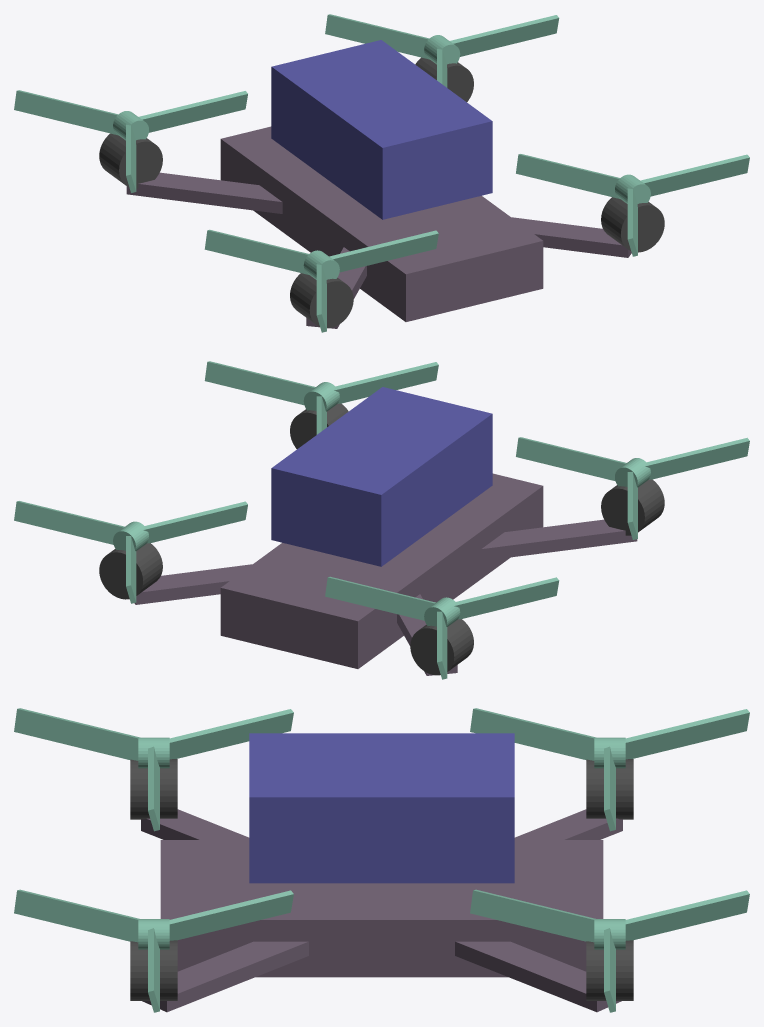
The model's file is CarbiX Zero.glb.
3 renders of one model, top to bottom at view 1: azimuth 30°, elevation 25°; view 2: azimuth 150°, elevation 25°; view 3: azimuth 270°, elevation 25°, orthographic. The views are drawn at different scales.
Parts seen in each view (by area): view 1: battery, frame_body, prop_3, prop_2, prop_0, prop_1, arm_3, arm_0, motor_0, motor_2, motor_3, motor_1 (+1 smaller); view 2: battery, frame_body, prop_3, prop_1, prop_2, prop_0, arm_2, arm_1, motor_1, motor_3, motor_2, motor_0 (+1 smaller); view 3: battery, frame_body, prop_0, prop_1, prop_2, prop_3, arm_1, arm_0, motor_0, motor_1, motor_2, motor_3 (+2 smaller).
Boxes of the visible parts, x1,y1,x2,y2 form: battery: (271,40,492,219); frame_body: (220,126,543,321); prop_3: (14,90,247,192); prop_2: (204,229,438,332); prop_0: (516,154,749,256); prop_1: (325,14,559,87); arm_3: (126,172,282,213); arm_0: (511,217,631,257); motor_0: (601,197,664,252); motor_2: (290,273,353,328); motor_3: (99,133,162,188); motor_1: (415,57,473,101); battery: (271,387,492,566); frame_body: (220,473,543,668); prop_3: (325,576,559,679); prop_1: (14,501,247,603); prop_2: (516,437,749,539); prop_0: (204,361,438,434); arm_2: (481,519,637,560); arm_1: (134,564,252,604); motor_1: (99,543,162,599); motor_3: (410,619,473,675); motor_2: (601,479,664,535); motor_0: (290,403,348,448); battery: (249,733,514,883); frame_body: (160,840,603,977); prop_0: (14,889,293,1012); prop_1: (470,889,749,1012); prop_2: (14,708,293,831); prop_3: (470,708,749,831); arm_1: (455,941,621,1012); arm_0: (142,941,308,1012); motor_0: (130,940,177,1000); motor_1: (586,940,633,1000); motor_2: (130,759,177,819); motor_3: (586,759,633,819).
Size of the model in its own units: 0.2125 by 0.06 by 0.2327.
